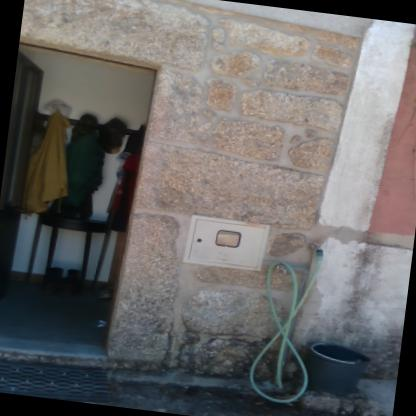open: (0, 29, 175, 372)
